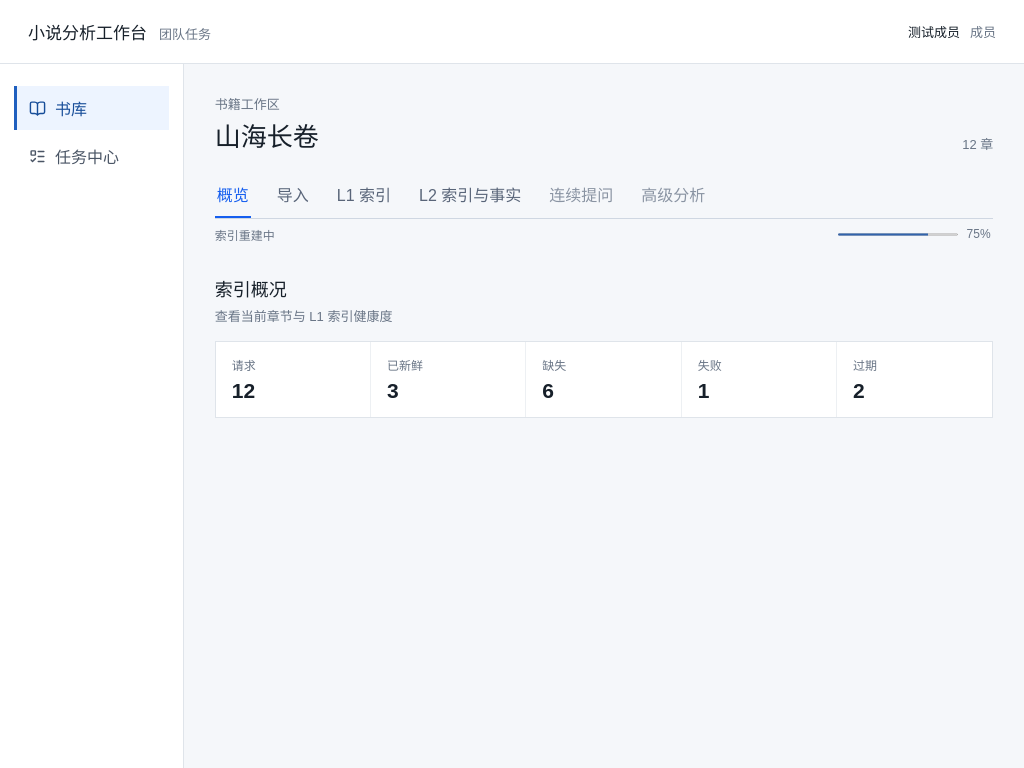
book workspace › keeps analysis entries visible but blocks them until readiness refetch unlocks
Expected: the text "索引重建中" is shown, [215,228,275,242]
Expected: the progress indicator holds "75", [838,232,958,236]
Click the link "连续提问" at (581, 196), box [549,187,613,204]
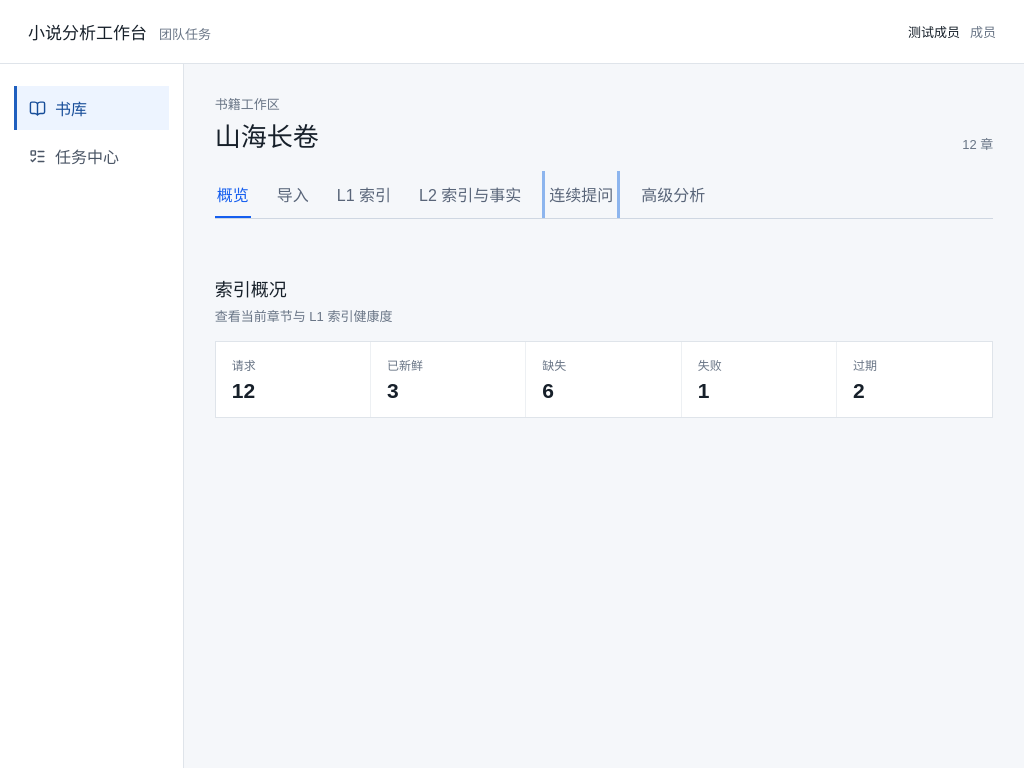
Expected: the text "索引重建中" is gone
